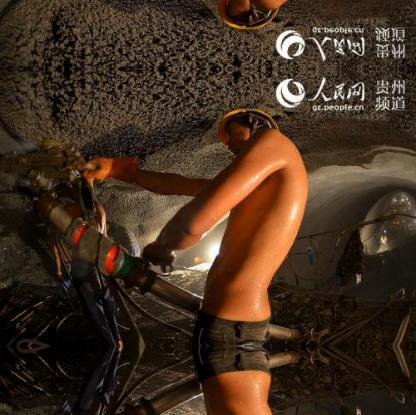helmet: (218, 101, 280, 145)
